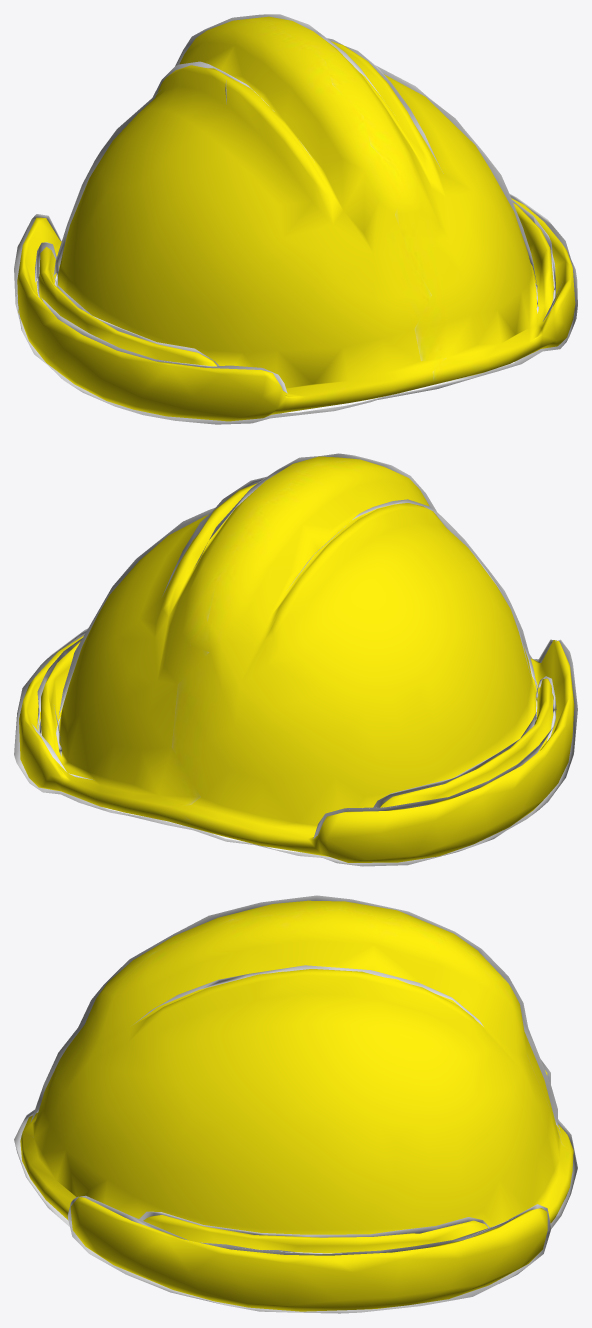
File: outfit_hard_hat.glb
The picture shows the model from 3 angles, top to bottom: view 1: azimuth 30°, elevation 25°; view 2: azimuth 150°, elevation 25°; view 3: azimuth 270°, elevation 25°; orthographic projection. The views are drawn at different scales.
Parts seen in each view (by area): view 1: outfit_hard_hat; view 2: outfit_hard_hat; view 3: outfit_hard_hat.
Part boxes in pixels (bbox=[...]): outfit_hard_hat: bbox=[14, 14, 577, 424]; outfit_hard_hat: bbox=[14, 453, 577, 866]; outfit_hard_hat: bbox=[14, 895, 577, 1313].
Size of the model in its own units: 0.521 by 0.2994 by 0.5214.
Materials: 2 (1 with a texture image).
